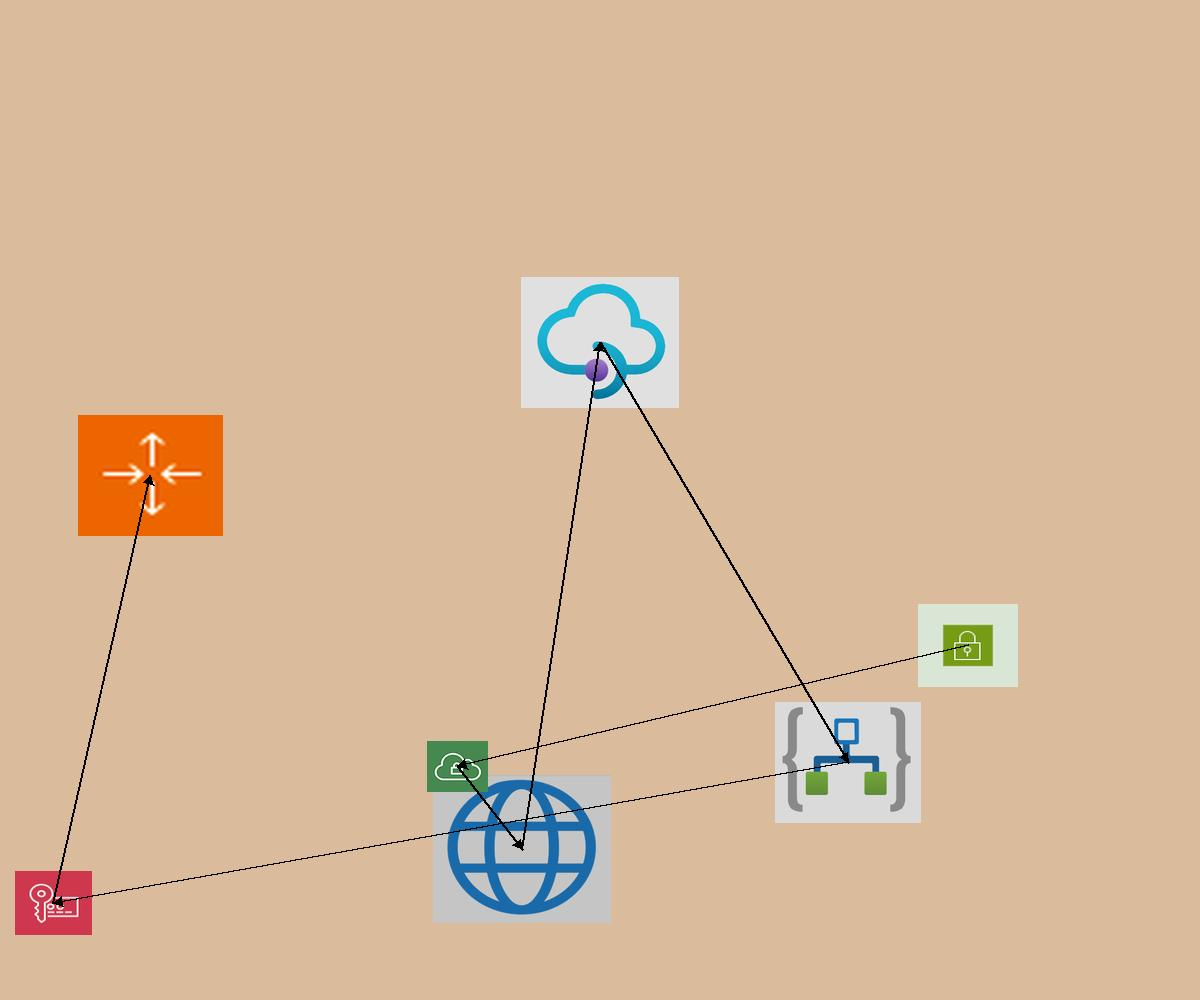AWS-Key-Management-Service: (15, 871, 92, 935)
AWS-Private_vpc: (427, 741, 488, 792)
AWS-Public-subnet: (918, 604, 1018, 687)
AWS-Scaling-group: (78, 415, 223, 536)
Azure_api_gateway: (521, 277, 679, 408)
Azure_http: (433, 775, 611, 923)
Azure_integration-204-Logic-Apps: (775, 702, 921, 823)
